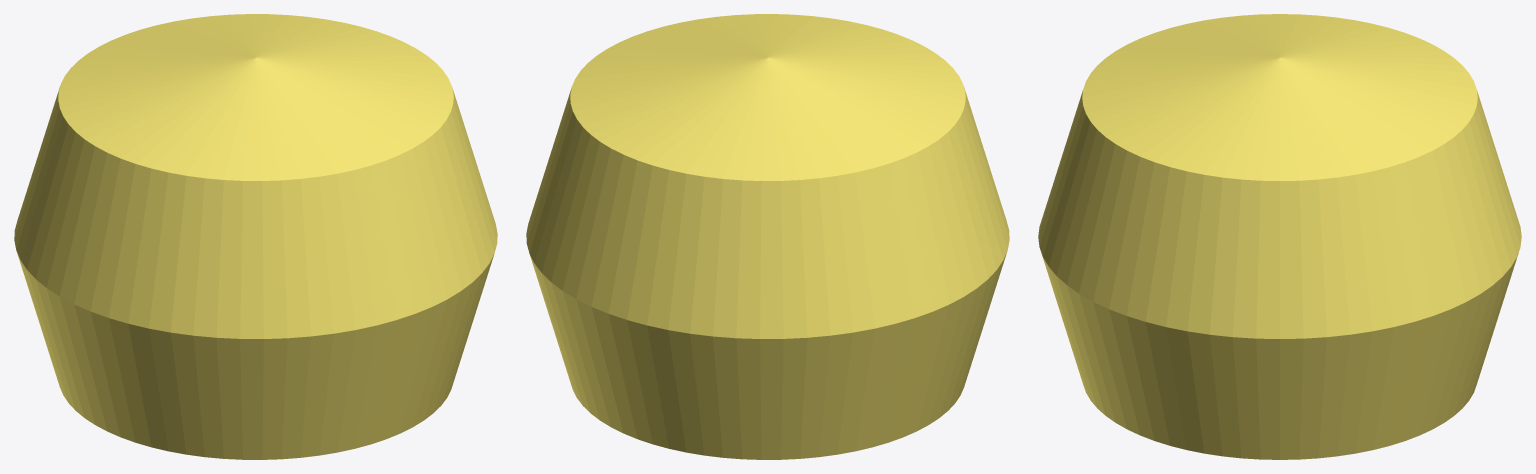
The model's file is drum.glb.
3 renders of one model, left to right at view 1: azimuth 30°, elevation 25°; view 2: azimuth 150°, elevation 25°; view 3: azimuth 270°, elevation 25°, orthographic.
Size of the model in its own units: 22 by 18 by 22.
